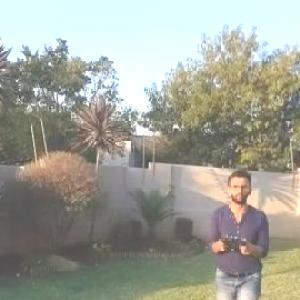follow: (200, 165, 268, 299)
